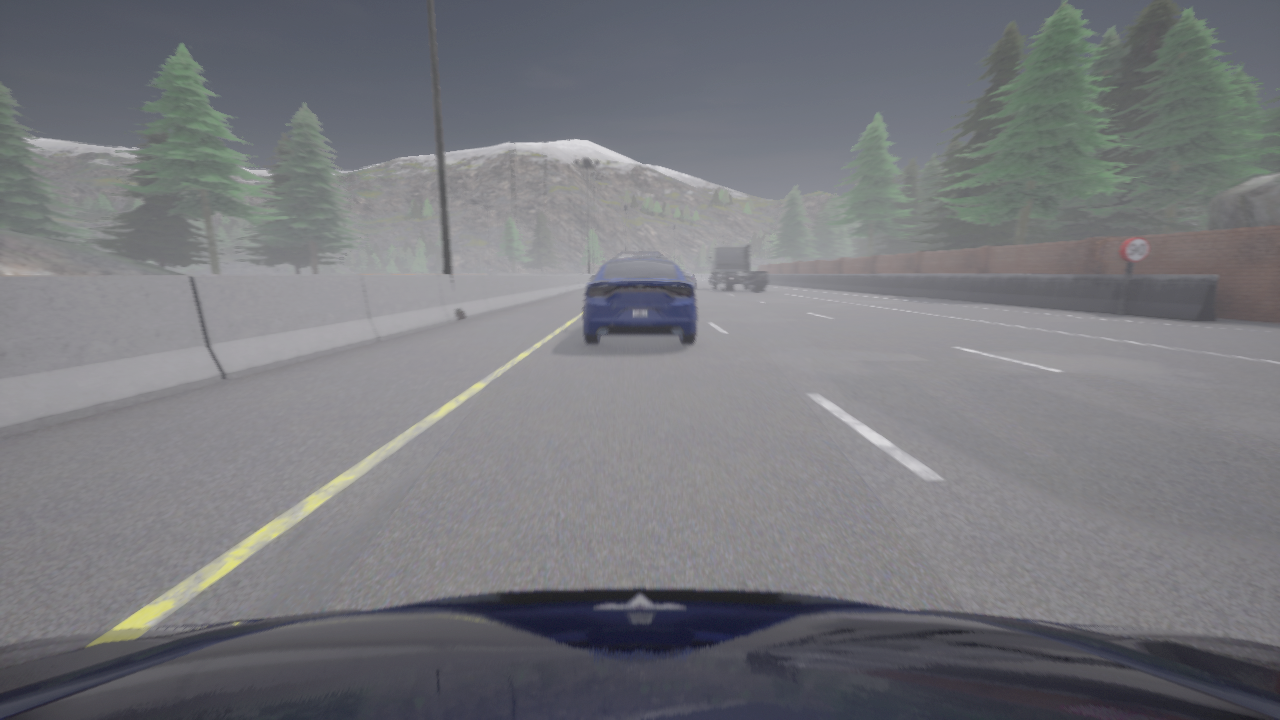cyclist: (0, 588, 1279, 719), (583, 256, 696, 343), (708, 243, 767, 291), (612, 252, 667, 259), (682, 271, 696, 288)
